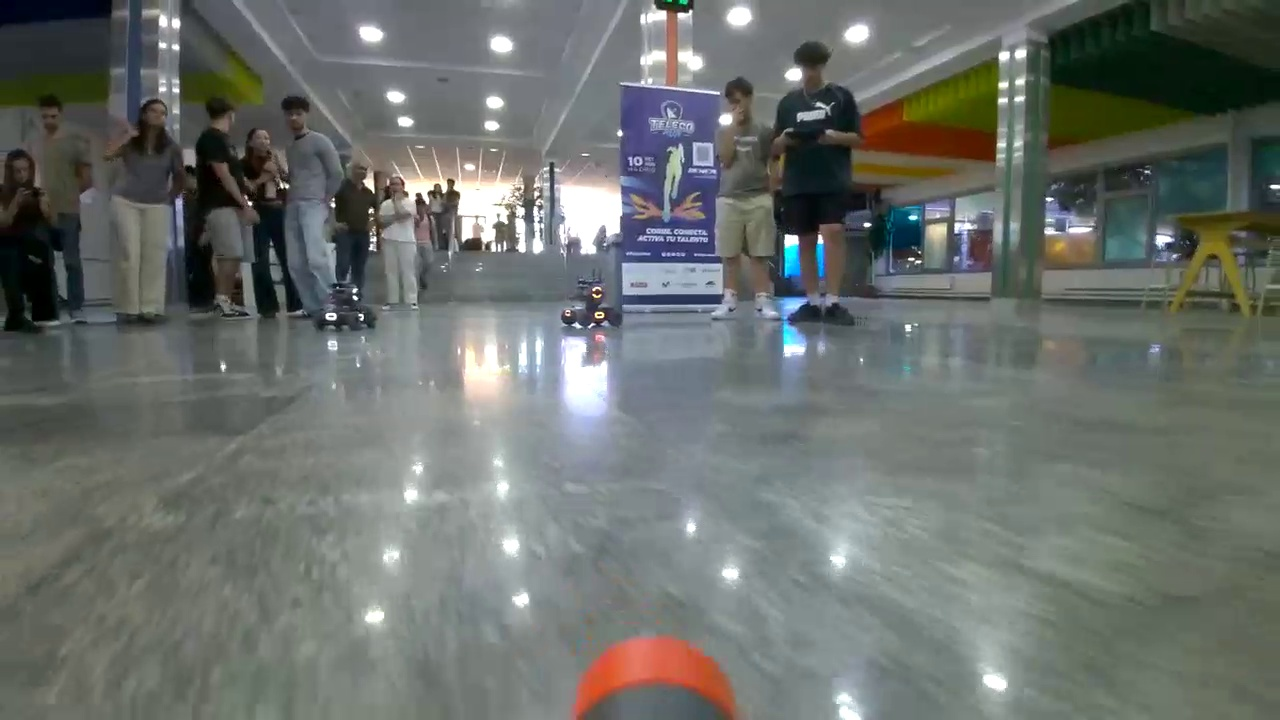robot: (315, 282, 382, 330), (560, 277, 622, 328)
